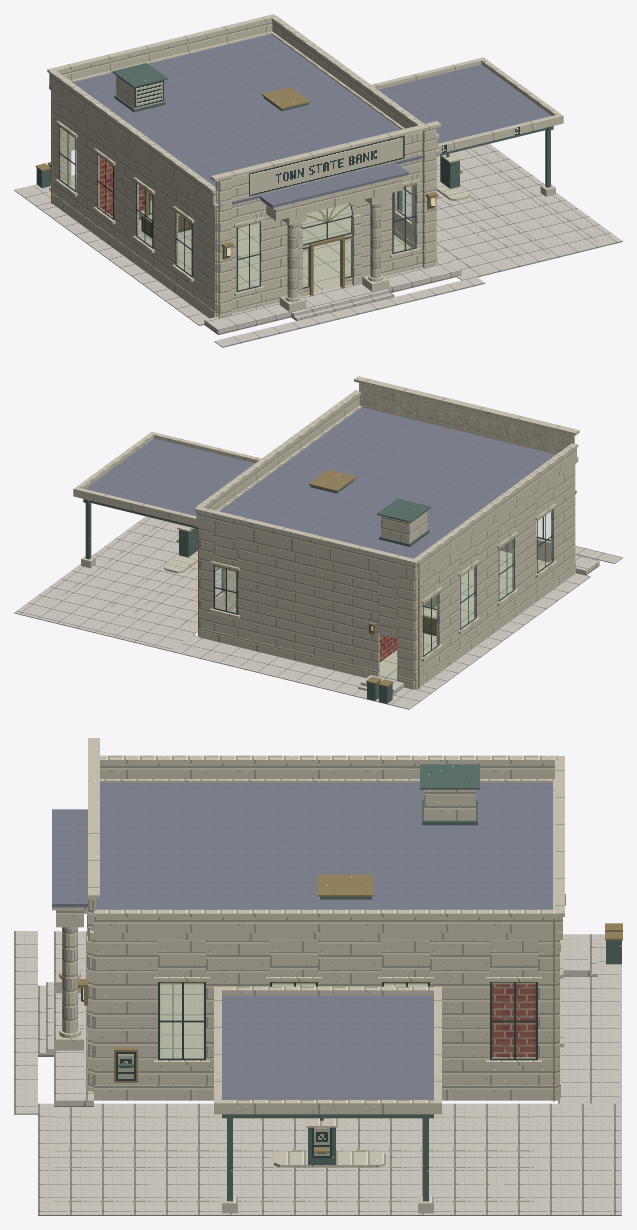
The model's file is small-town-bank-drive-through.glb.
3 renders of one model, top to bottom at view 1: azimuth 30°, elevation 25°; view 2: azimuth 150°, elevation 25°; view 3: azimuth 270°, elevation 25°, orthographic. The views are drawn at different scales.
Parts seen in each view (by area): view 1: structure__wall_stone, structure__roof_membrane, lot__ground_paving, structure__glass_bank, drive_through__roof_membrane, structure__ground_floor, structure__ground_paving, sign_name, drive_through__wall_stone, structure__detail_bronze, structure__detail_steel, structure__detail_panels (+5 smaller); view 2: structure__wall_stone, structure__roof_membrane, lot__ground_paving, drive_through__roof_membrane, structure__glass_bank, drive_through__wall_stone, structure__ground_floor, structure__detail_steel, structure__detail_bronze, drive_through__detail_steel, structure__ground_paving, lot__wall_stone (+2 smaller); view 3: structure__wall_stone, lot__ground_paving, structure__roof_membrane, drive_through__roof_membrane, structure__glass_bank, drive_through__wall_stone, structure__ground_paving, structure__ground_floor, structure__wall_brick, lot__wall_stone, structure__detail_steel, drive_through__detail_steel (+2 smaller).
Part boxes in pixels (bbox=[...]): structure__wall_stone: bbox=[47, 14, 441, 318]; structure__roof_membrane: bbox=[73, 34, 439, 208]; lot__ground_paving: bbox=[14, 144, 622, 347]; structure__glass_bank: bbox=[59, 126, 416, 292]; drive_through__roof_membrane: bbox=[378, 64, 551, 143]; structure__ground_floor: bbox=[139, 200, 411, 292]; structure__ground_paving: bbox=[49, 181, 461, 334]; sign_name: bbox=[249, 135, 404, 196]; drive_through__wall_stone: bbox=[371, 57, 563, 196]; structure__detail_bronze: bbox=[51, 75, 437, 295]; structure__detail_steel: bbox=[112, 63, 308, 112]; structure__detail_panels: bbox=[134, 80, 191, 238]; structure__wall_stone: bbox=[194, 376, 579, 689]; structure__roof_membrane: bbox=[220, 407, 555, 558]; lot__ground_paving: bbox=[14, 516, 622, 709]; drive_through__roof_membrane: bbox=[85, 438, 254, 515]; structure__glass_bank: bbox=[213, 509, 553, 656]; drive_through__wall_stone: bbox=[73, 431, 261, 568]; structure__ground_floor: bbox=[231, 550, 548, 680]; structure__detail_steel: bbox=[310, 479, 430, 546]; structure__detail_bronze: bbox=[198, 469, 576, 688]; drive_through__detail_steel: bbox=[83, 499, 197, 559]; structure__ground_paving: bbox=[358, 555, 599, 695]; lot__wall_stone: bbox=[63, 521, 197, 624]; structure__wall_stone: bbox=[52, 738, 564, 1100]; lot__ground_paving: bbox=[14, 931, 621, 1215]; structure__roof_membrane: bbox=[52, 782, 552, 909]; drive_through__roof_membrane: bbox=[222, 995, 433, 1099]; structure__glass_bank: bbox=[158, 982, 537, 1060]; drive_through__wall_stone: bbox=[214, 986, 441, 1213]; structure__ground_paving: bbox=[38, 931, 597, 1106]; structure__ground_floor: bbox=[160, 984, 535, 1058]; structure__wall_brick: bbox=[492, 984, 535, 1057]; lot__wall_stone: bbox=[54, 1116, 533, 1201]; structure__detail_steel: bbox=[320, 764, 479, 899]; drive_through__detail_steel: bbox=[222, 1114, 433, 1201].
Size of what is drawn, in the model's own units: 26.23 by 8.85 by 23.63.
12 materials, 12 textured.
